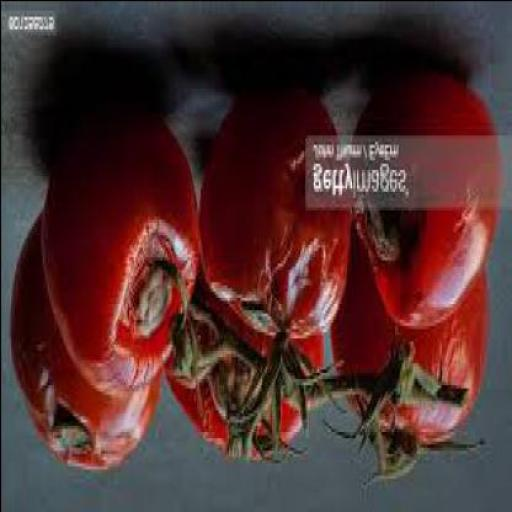biodegradable: (194, 97, 350, 437), (38, 112, 195, 400), (8, 206, 158, 475), (320, 250, 486, 493), (349, 66, 495, 328), (162, 278, 322, 465)
